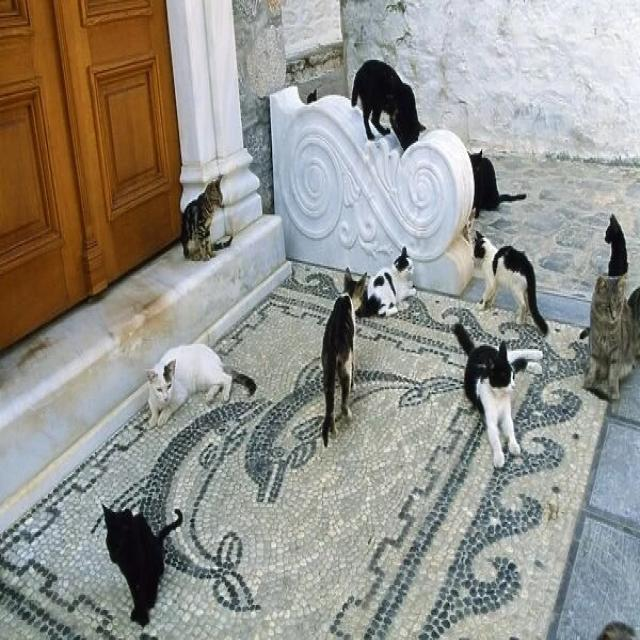cat: (454, 323, 542, 467), (103, 505, 182, 626), (146, 345, 256, 426), (321, 269, 366, 445), (474, 233, 548, 334), (351, 60, 425, 149), (584, 275, 634, 399), (182, 175, 232, 260), (469, 152, 526, 217), (364, 247, 416, 315), (605, 214, 629, 276), (628, 286, 640, 359)
